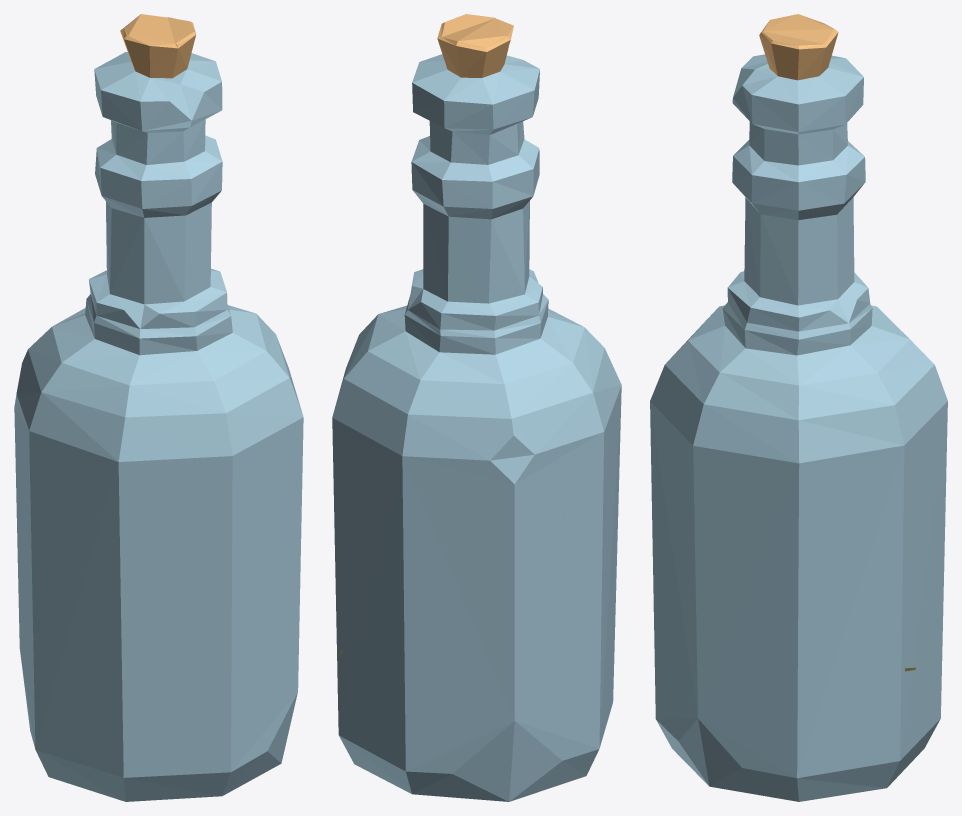
Rendered from SFHW_Bottle_Herbs_012.fbx.
3 renders of one model, left to right at view 1: azimuth 30°, elevation 25°; view 2: azimuth 150°, elevation 25°; view 3: azimuth 270°, elevation 25°, orthographic.
Parts seen in each view (by area): view 1: SFHW_Bottle_Herbs_012; view 2: SFHW_Bottle_Herbs_012; view 3: SFHW_Bottle_Herbs_012.
Boxes of the visible parts, x1,y1,x2,y2 form: SFHW_Bottle_Herbs_012: [14, 14, 303, 801]; SFHW_Bottle_Herbs_012: [332, 14, 621, 801]; SFHW_Bottle_Herbs_012: [650, 14, 947, 801].
Bounding box in the file's own units: 12.33 × 32.91 × 12.32.
